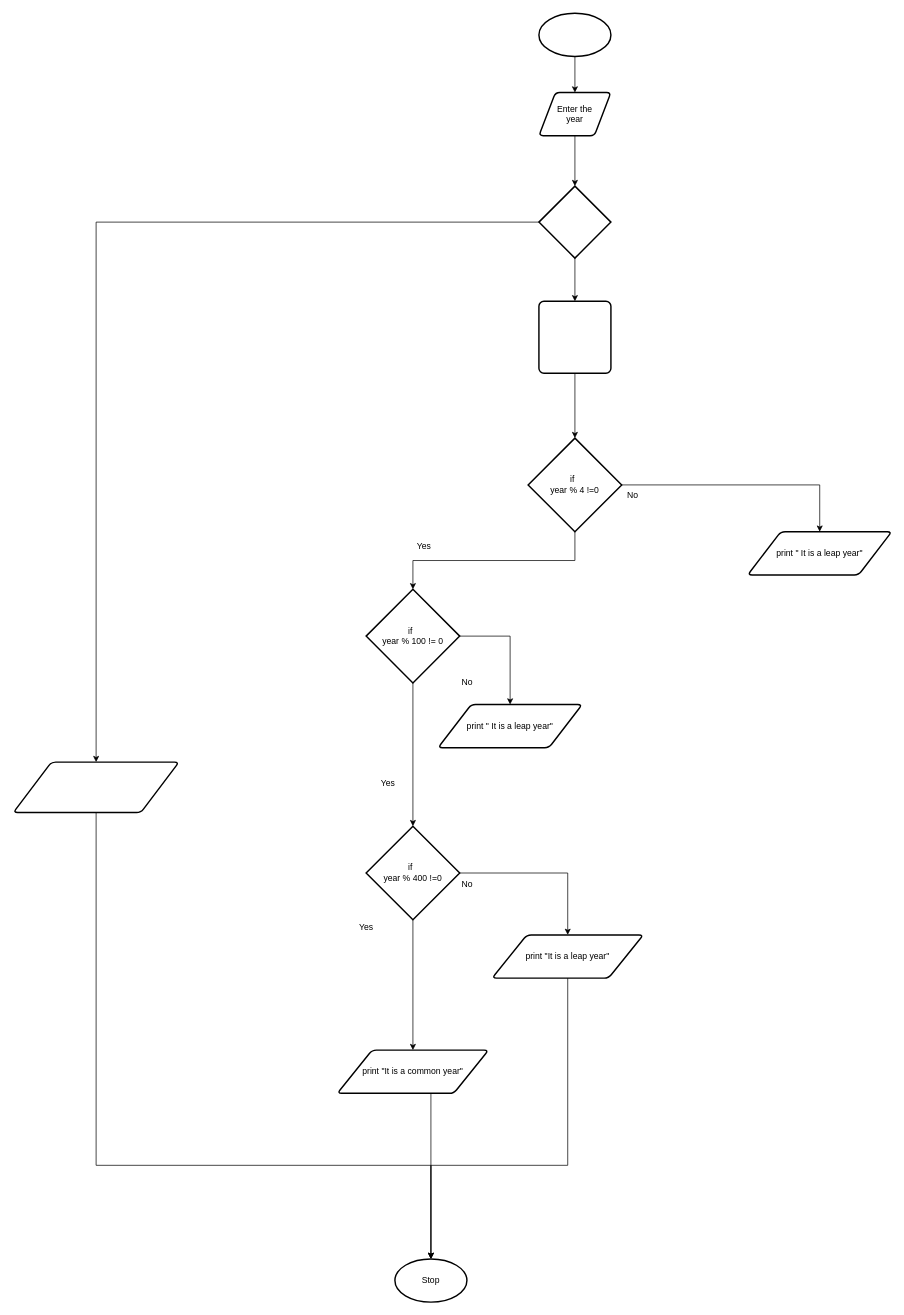
Some shapes in this 904 by 1315 pixel diagram are drawn without their labels. The shapes that lost their labels are listed below. From the top down, each one's box as (x1, y1, x2, y2) in pixels, then its label:
(538, 12, 611, 57): Start
(538, 185, 611, 258): try
(538, 300, 611, 374): Convert string to int
(12, 761, 179, 813): print " sorry this is not a number
